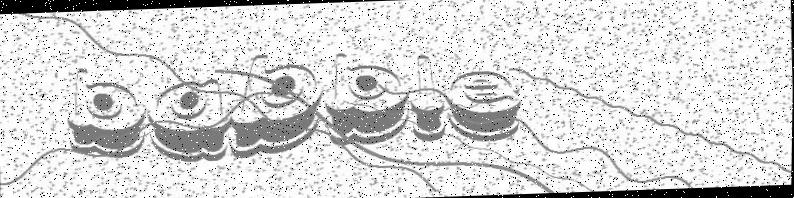a: (146, 76, 231, 165)
b: (226, 51, 327, 159), (325, 49, 409, 148), (66, 65, 149, 161)
e: (448, 69, 525, 144)
l: (408, 53, 449, 142)
